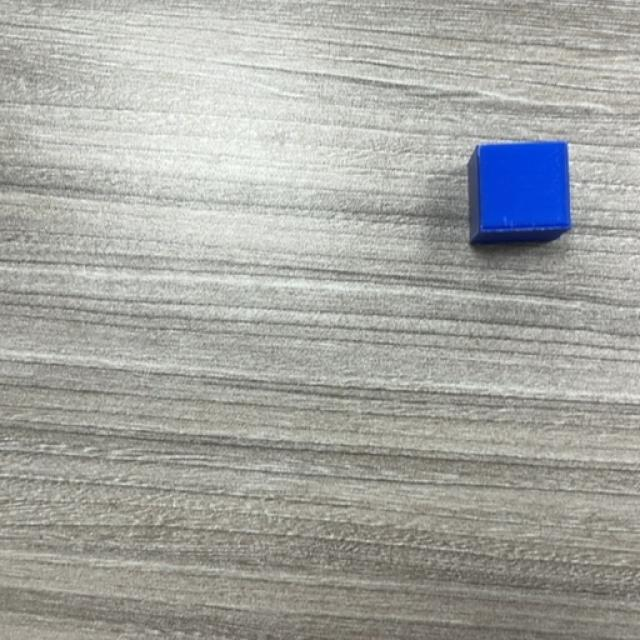Azul: (466, 141, 572, 249)
